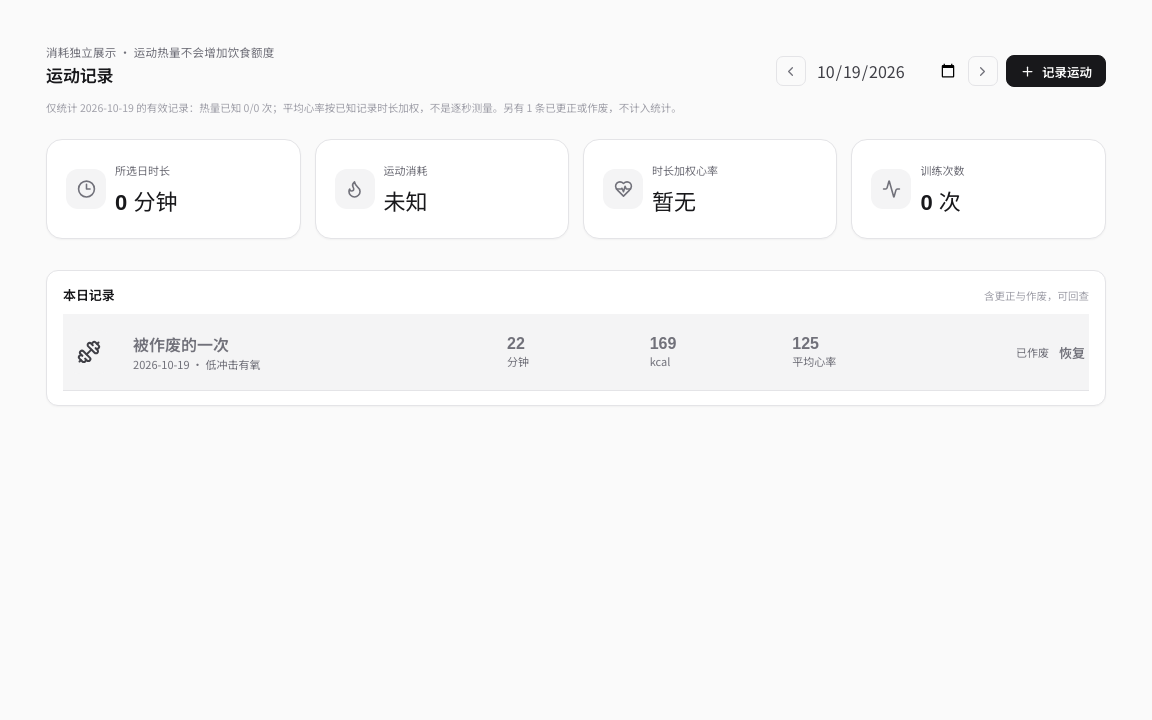
Test case: skips voided records when suggesting the previous workout
Step 1. Click the button "记录运动" → (1056, 71), box [1006,55,1106,87]
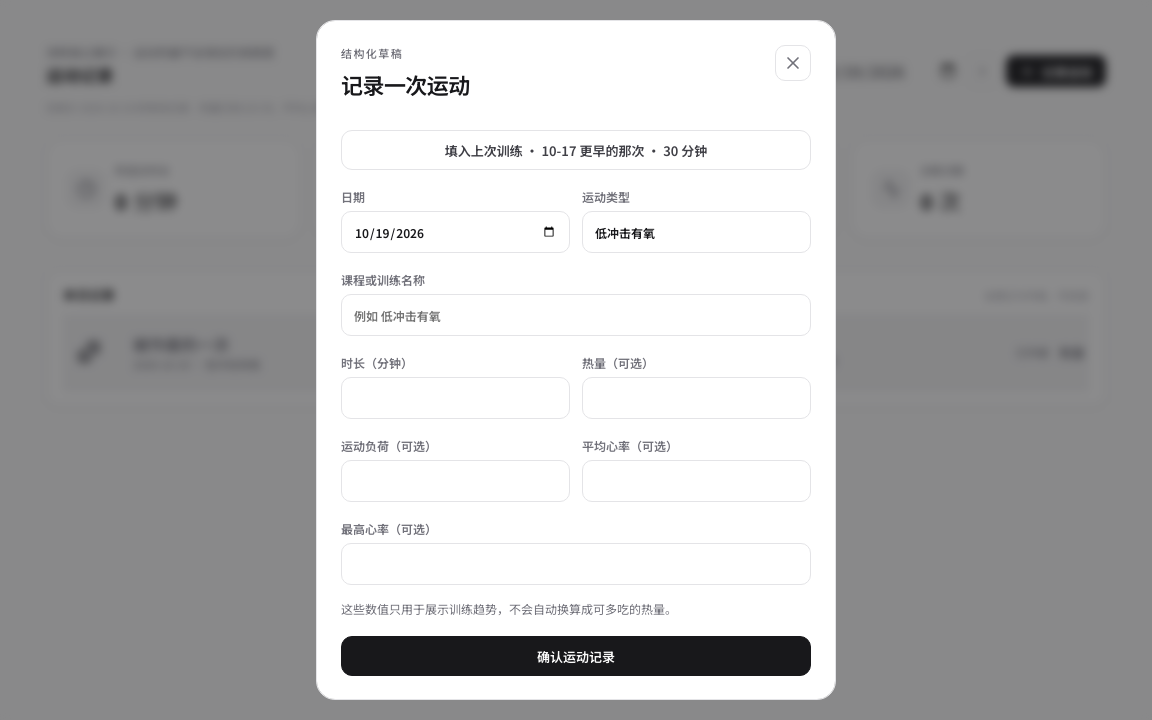
expect the button does not show "被作废的一次": met
expect the button "填入上次训练 · 10-17 更早的那次 · 30 分钟" is shown: met, box [341,130,811,170]
